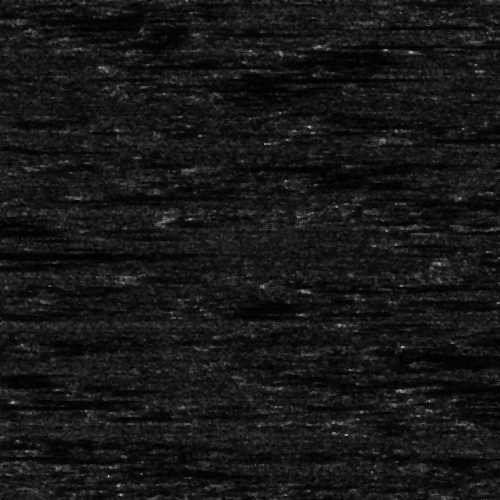object: (147, 161, 282, 172), (0, 9, 82, 26), (293, 39, 386, 48), (140, 72, 213, 83), (97, 60, 170, 69), (394, 382, 447, 393), (59, 192, 132, 199), (373, 135, 446, 140), (297, 286, 350, 289), (492, 297, 500, 304)
shadow: (15, 9, 174, 26), (0, 245, 177, 258), (214, 161, 404, 172), (177, 72, 358, 83), (134, 60, 273, 69), (96, 192, 274, 199), (339, 39, 454, 48), (421, 382, 500, 393), (410, 135, 500, 140), (0, 142, 37, 151), (324, 286, 402, 289)
